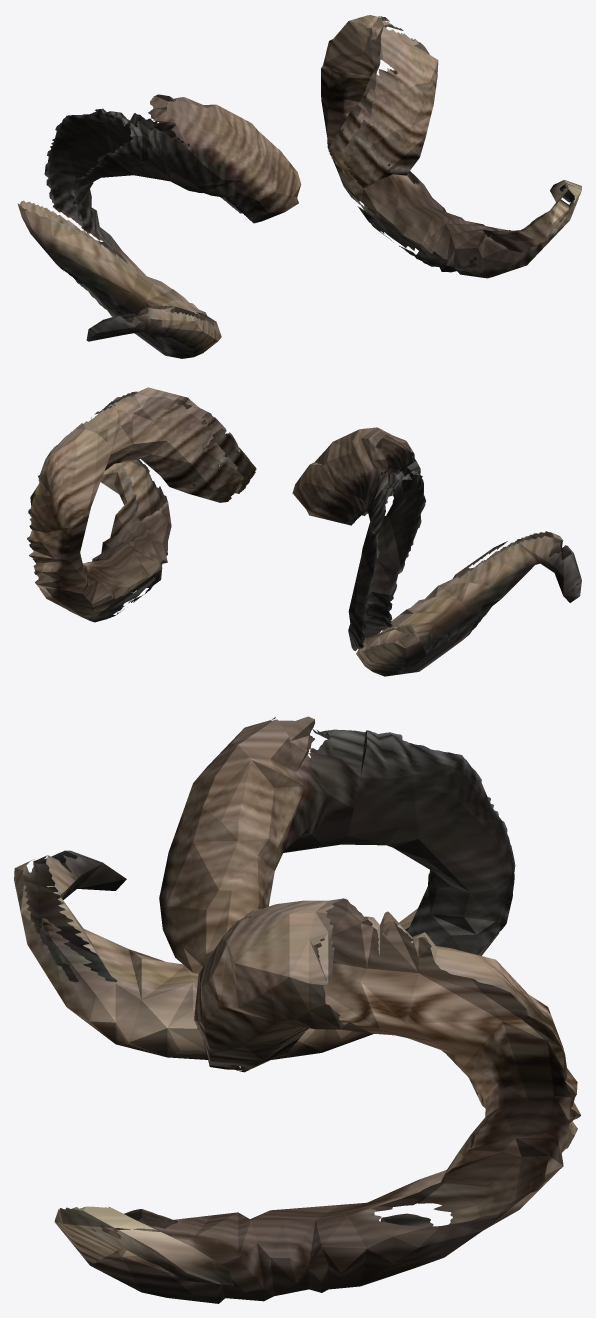
Rendered from ramhorns-lite.glb.
3 views of the same model, one above another, from view 1: azimuth 30°, elevation 25°; view 2: azimuth 150°, elevation 25°; view 3: azimuth 270°, elevation 25° (orthographic). The views are drawn at different scales.
Visible parts, largest first — view 1: geometry_0; view 2: geometry_0; view 3: geometry_0.
Boxes of the visible parts, x1,y1,x2,y2 form: geometry_0: (18,15,581,358); geometry_0: (27,387,581,676); geometry_0: (14,716,580,1303).
Size of the model in its own units: 1.02 by 0.4329 by 0.6015.
Materials: 1 (1 with a texture image).
